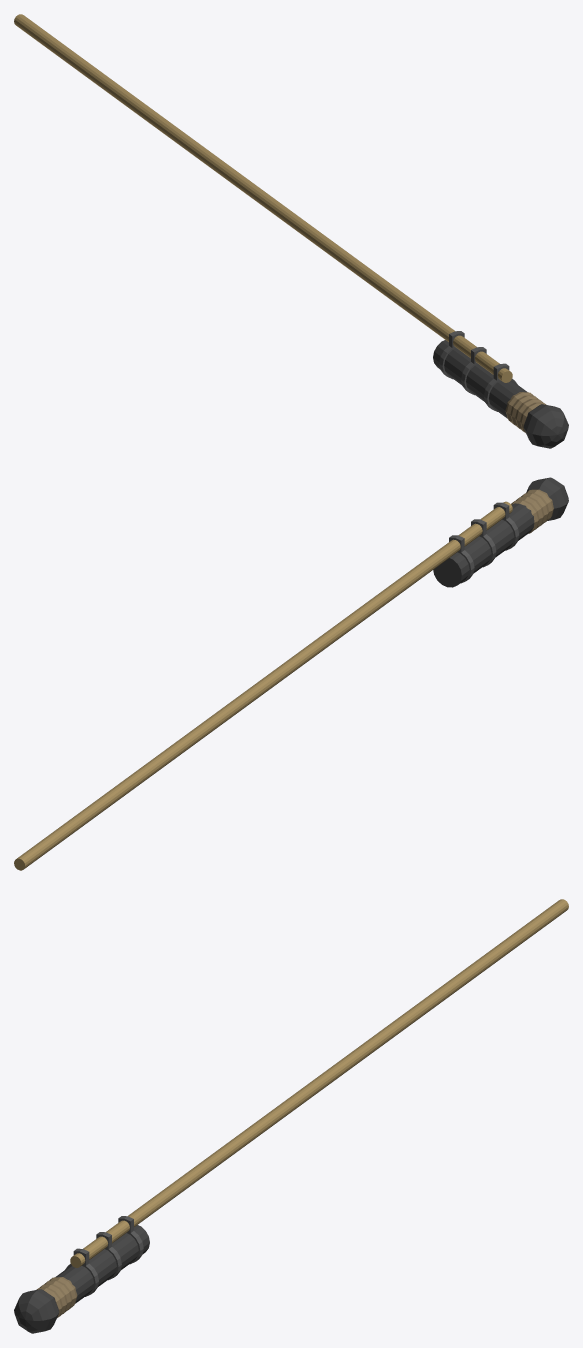
The model's file is Rocket Model.fbx.
3 renders of one model, top to bottom at view 1: azimuth 30°, elevation 25°; view 2: azimuth 150°, elevation 25°; view 3: azimuth 330°, elevation 25°, orthographic.
Parts seen in each view (by area): view 1: Rocket Body; view 2: Rocket Body; view 3: Rocket Body.
Part boxes in pixels (x1,y1,x2,y2): Rocket Body: (14, 14, 568, 448); Rocket Body: (14, 477, 568, 870); Rocket Body: (14, 899, 568, 1333).
Size of what is drawn, in the model's own units: 0.1912 by 0.2272 by 4.5.
